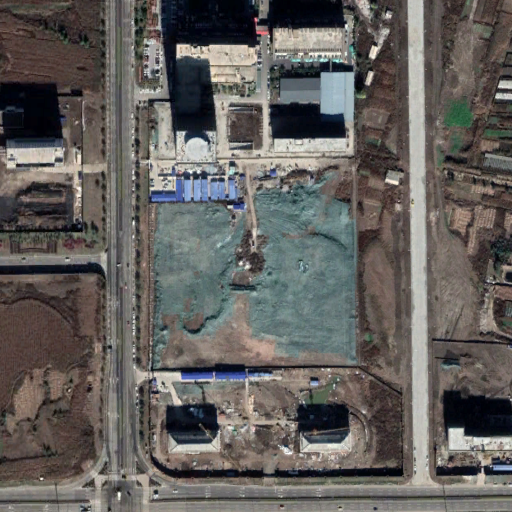cw: (150, 173, 358, 367)
